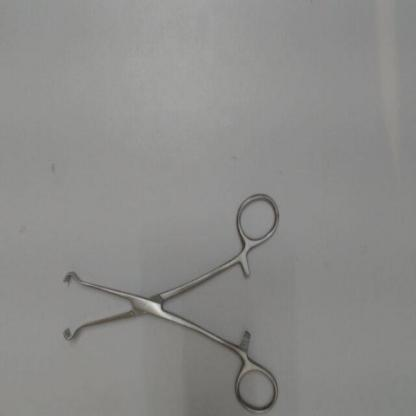Babcock Tissue Forceps: (53, 178, 283, 416)
